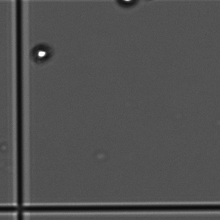Living Cell: (30, 43, 53, 62), (115, 1, 140, 11)
